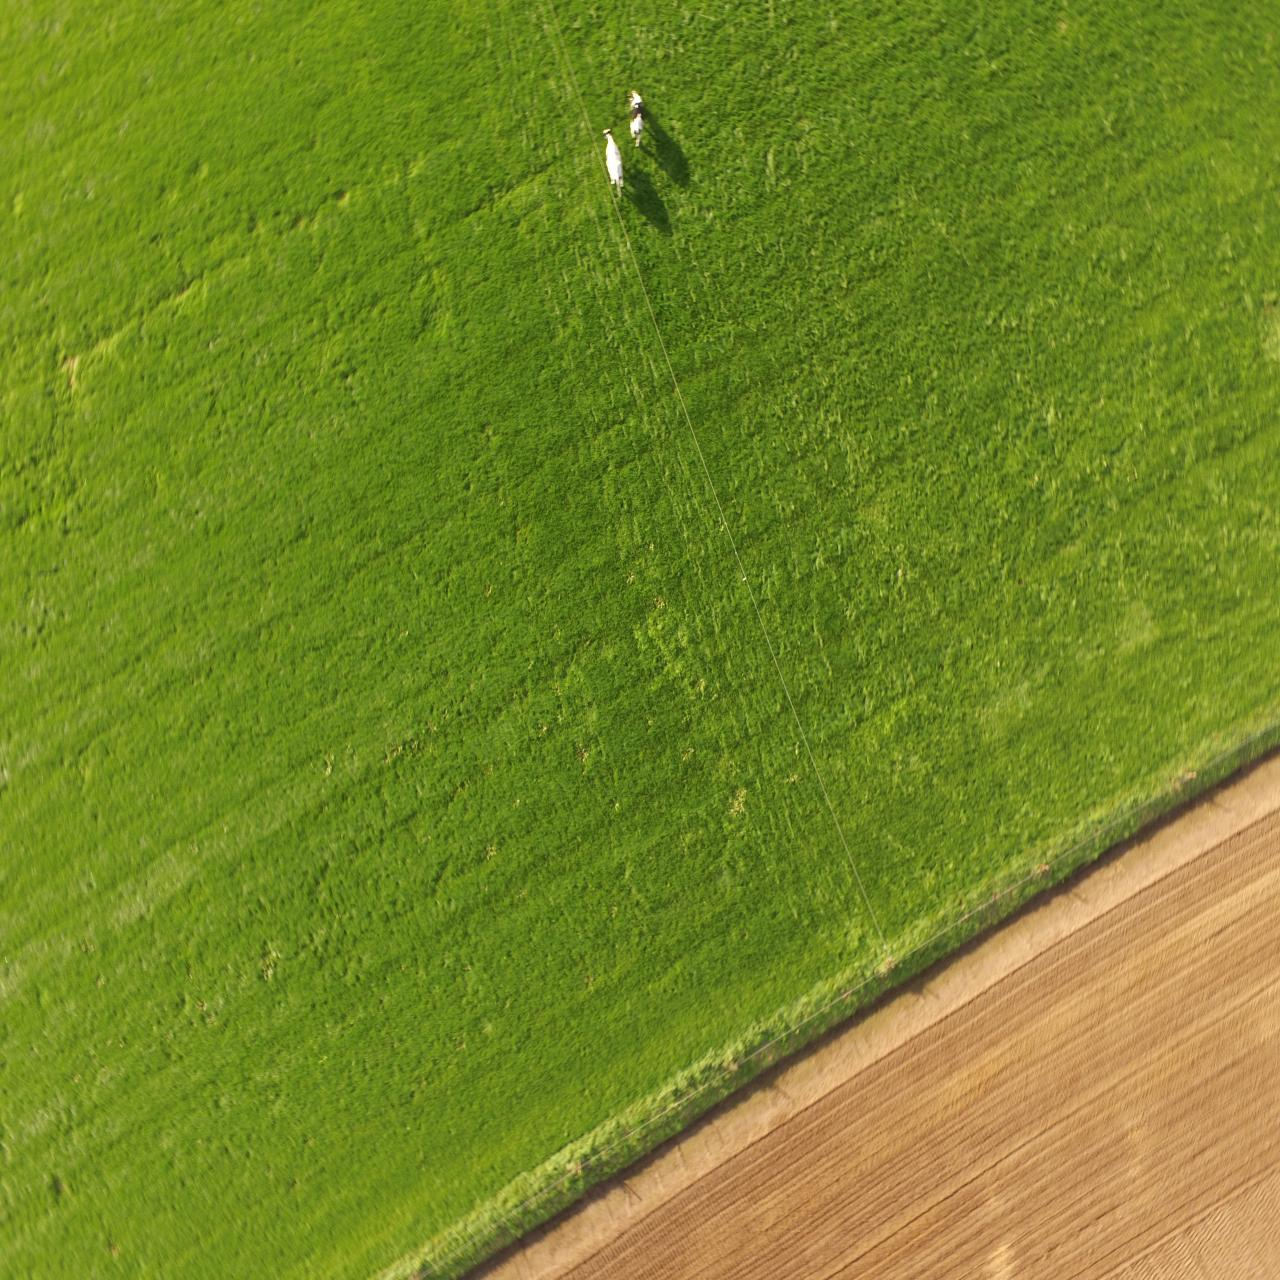cow: (601, 128, 625, 199), (626, 89, 645, 148)
